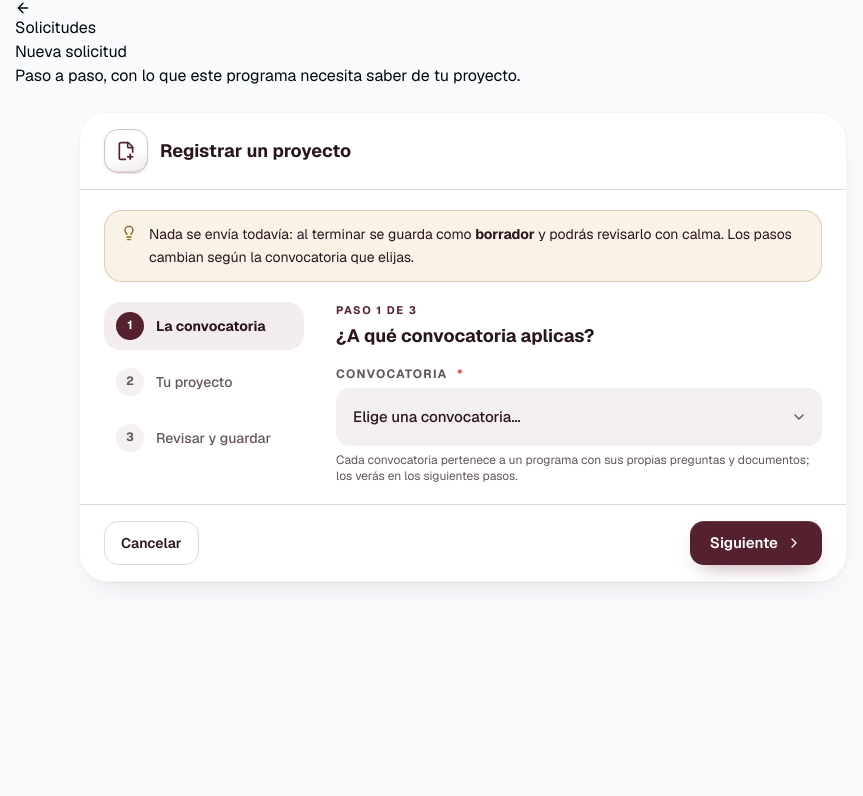
NuevaSolicitud (solicitante) › en el paso del proyecto exige título, área, monto y resumen
The image size is (863, 796).
Select "Convocatoria PROT 2026 (2026)" in the dropdown labelled "Convocatoria *" at (579, 417), box [336, 388, 822, 446]
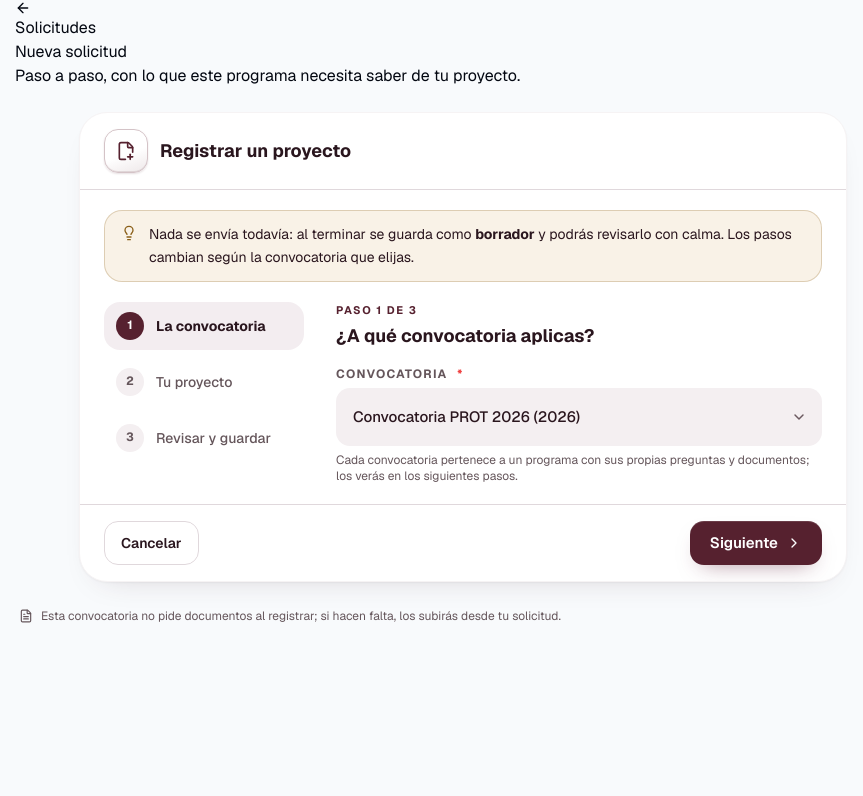
Click the button "Siguiente" at (756, 543), box [690, 521, 822, 565]
(page scrolled)
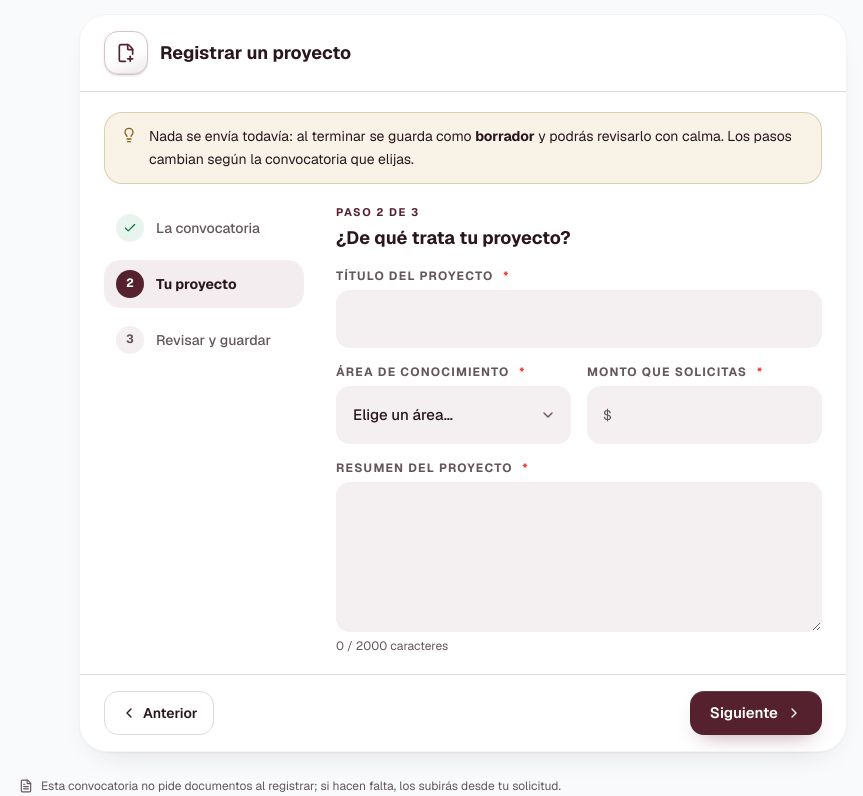
Expected: the heading "¿De qué trata tu proyecto?" is shown, [336, 226, 571, 249]
Click the button "Siguiente" at (756, 713), box [690, 691, 822, 735]
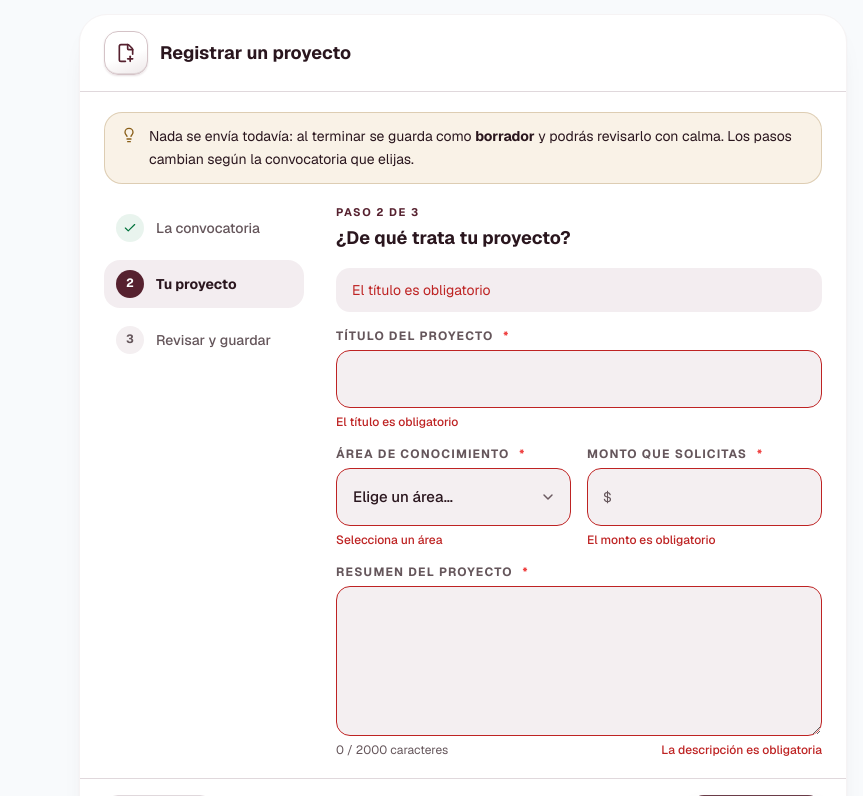
Expected: the message reads "El título es obligatorio", [352, 281, 491, 299]
Expected: the text "Selecciona un área" is shown, [336, 532, 442, 548]
